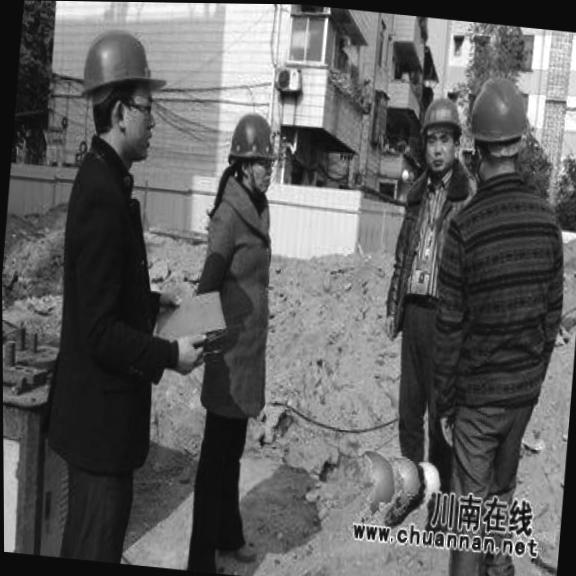no_safety_vest: (39, 144, 197, 450), (422, 168, 576, 421), (187, 179, 290, 404), (377, 159, 464, 350)
